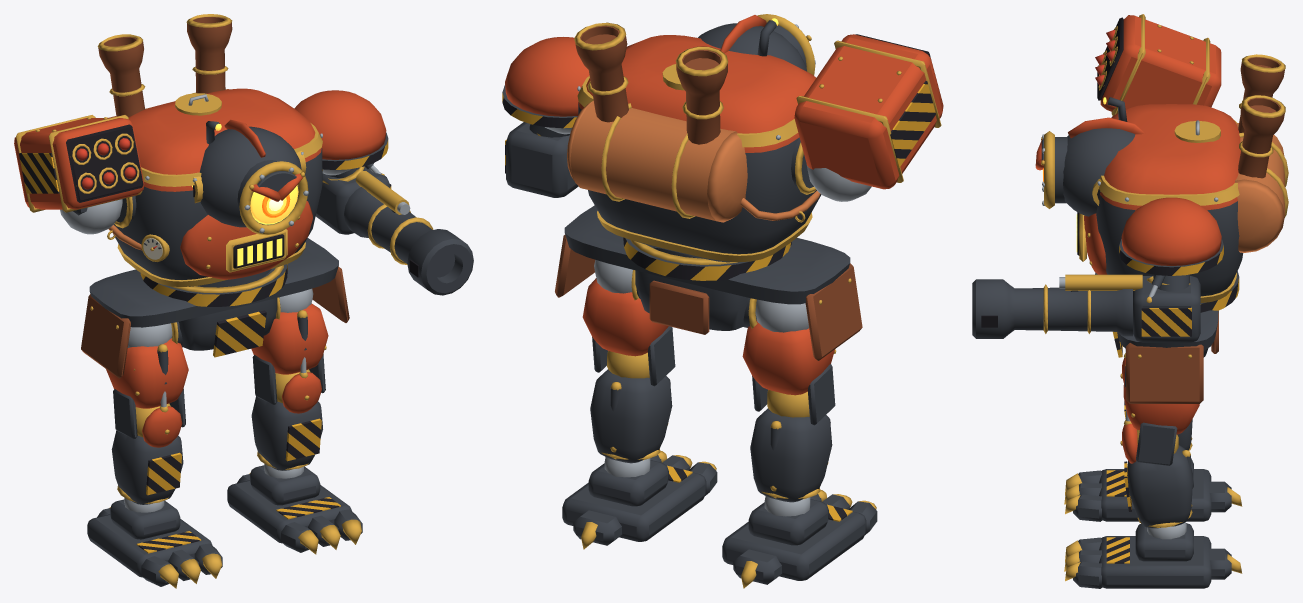
Rendered from enemy_ironclad.glb.
The picture shows the model from 3 angles, left to right: view 1: azimuth 30°, elevation 25°; view 2: azimuth 150°, elevation 25°; view 3: azimuth 270°, elevation 25°; orthographic projection. The views are drawn at different scales.
Visible parts, largest first — view 1: Torso, Pelvis, ArmR, Head, ArmL, FootL, FootR, ThighR, ShinL, ShinR, ThighL; view 2: Torso, Pelvis, ArmR, FootR, FootL, ThighR, ShinR, ShinL, ThighL, ArmL, Head; view 3: Torso, ArmL, ArmR, FootL, Head, Pelvis, FootR, ShinL, ThighL.
Part boxes in pixels (x1,y1,x2,y2): Torso: (97, 14, 388, 287); Pelvis: (81, 238, 349, 378); ArmR: (14, 115, 144, 234); Head: (192, 119, 308, 235); ArmL: (315, 163, 473, 295); FootL: (227, 464, 362, 554); FootR: (87, 497, 222, 588); ThighR: (106, 323, 188, 438); ShinL: (251, 369, 322, 470); ShinR: (111, 403, 183, 504); ThighL: (251, 288, 328, 404); Torso: (502, 22, 821, 262); Pelvis: (555, 205, 862, 360); ArmR: (794, 34, 943, 201); FootR: (722, 489, 877, 588); FootL: (562, 450, 717, 549); ThighR: (742, 299, 836, 425); ShinR: (750, 390, 832, 502); ShinL: (590, 351, 672, 463); ThighL: (582, 260, 675, 386); ArmL: (505, 122, 578, 197); Head: (698, 14, 815, 75); Torso: (1076, 54, 1288, 302); ArmL: (972, 274, 1200, 342); ArmR: (1095, 14, 1221, 115); FootL: (1064, 522, 1242, 588); Head: (1035, 97, 1145, 216); Pelvis: (1095, 271, 1239, 403); FootR: (1064, 458, 1242, 521); ShinL: (1120, 423, 1192, 528); ThighL: (1123, 364, 1199, 465).
Bounding box in the file's own units: 4.08 × 5.25 × 3.27.
